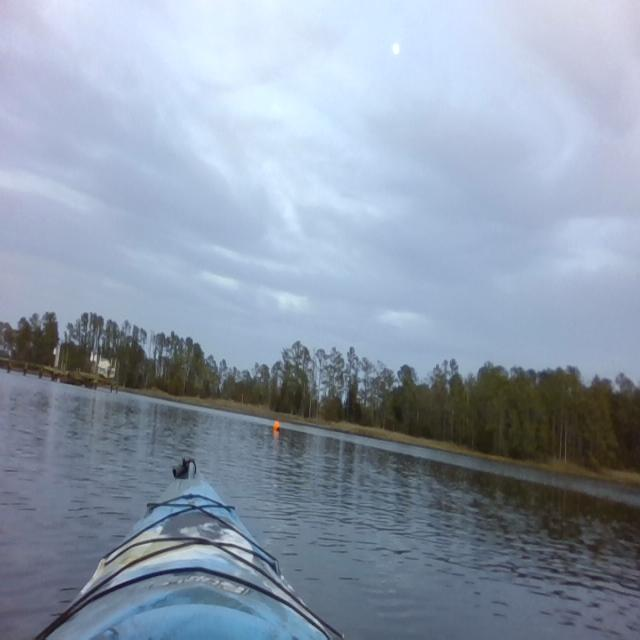Buoy: (272, 419, 281, 434)
